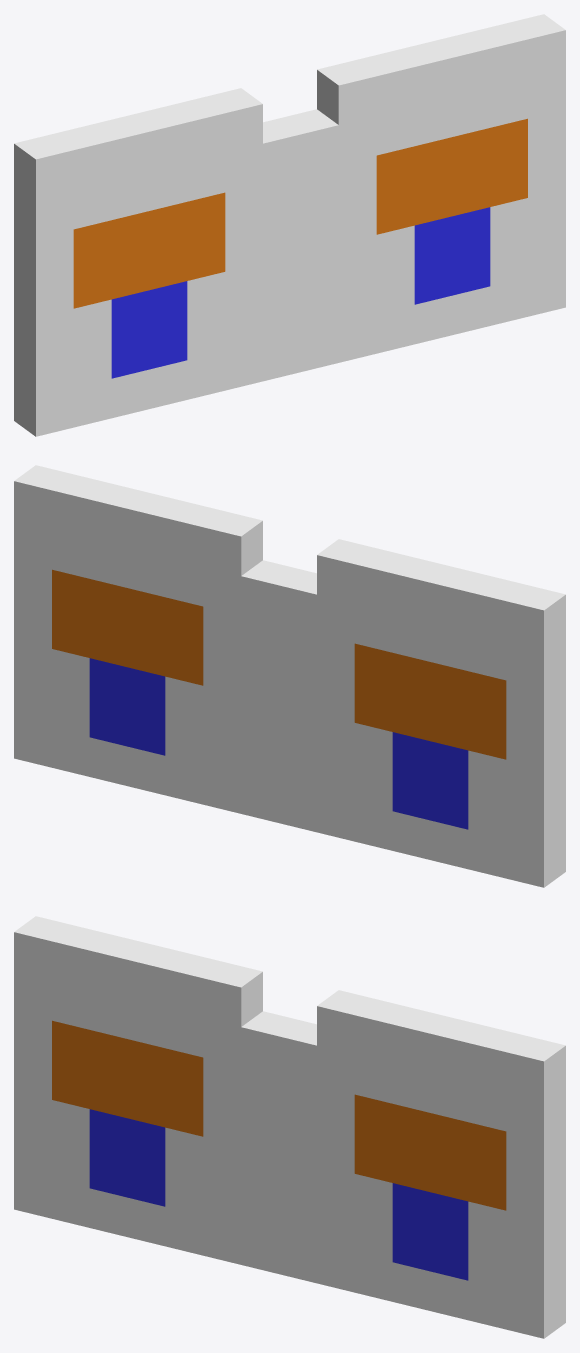
3 renders of one model, top to bottom at view 1: azimuth 30°, elevation 25°; view 2: azimuth 150°, elevation 25°; view 3: azimuth 330°, elevation 25°, orthographic.
Parts seen in each view (by area): view 1: eye-shapes056, eye-shapes013, eye-shapes014; view 2: eye-shapes056, eye-shapes013, eye-shapes014; view 3: eye-shapes056, eye-shapes013, eye-shapes014.
Part boxes in pixels (box(x1,y1,x2,y2)): eye-shapes056: box(14, 14, 565, 436); eye-shapes013: box(73, 118, 527, 308); eye-shapes014: box(111, 207, 490, 378); eye-shapes056: box(14, 465, 565, 887); eye-shapes013: box(52, 569, 506, 759); eye-shapes014: box(89, 658, 468, 829); eye-shapes056: box(14, 916, 565, 1338); eye-shapes013: box(52, 1020, 506, 1210); eye-shapes014: box(89, 1109, 468, 1280).
Bounding box in the file's own units: 140 × 70 × 10.
3 materials, 3 textured.
